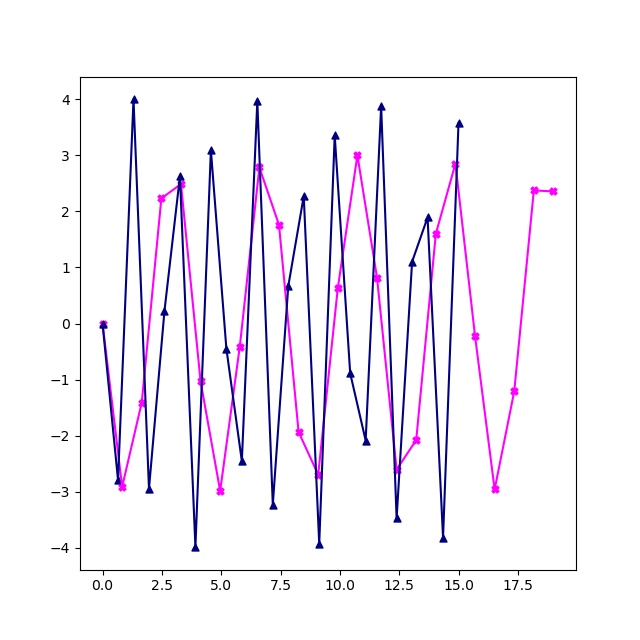Cross: (98, 319, 108, 329), (118, 482, 128, 492), (137, 398, 147, 408), (157, 194, 167, 204), (176, 180, 186, 190), (196, 377, 206, 387), (216, 486, 226, 496), (235, 342, 245, 352), (255, 163, 265, 173), (274, 220, 284, 230), (294, 428, 304, 438), (314, 470, 324, 480), (333, 284, 343, 294), (353, 151, 363, 161), (373, 273, 383, 283), (392, 465, 402, 475), (412, 436, 422, 446), (431, 229, 441, 239), (451, 159, 461, 169), (471, 331, 481, 341), (490, 485, 500, 495), (510, 387, 520, 397), (529, 186, 539, 196), (549, 187, 559, 197)
triangle_up: (98, 319, 108, 329), (114, 476, 124, 486), (129, 95, 139, 105), (144, 484, 154, 494), (160, 307, 170, 317), (175, 172, 185, 182), (191, 543, 201, 553), (206, 146, 216, 156), (222, 344, 232, 354), (237, 457, 247, 467), (253, 97, 263, 107), (268, 500, 278, 510), (284, 282, 294, 292), (299, 192, 309, 202), (315, 539, 325, 549), (330, 131, 340, 141), (346, 369, 356, 379), (361, 436, 371, 446), (377, 102, 387, 112), (392, 514, 402, 524), (408, 257, 418, 267), (423, 213, 433, 223), (439, 533, 449, 543), (454, 118, 464, 128)
